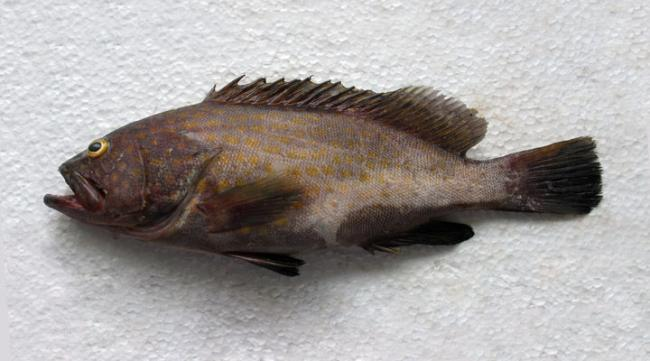fish: (44, 74, 603, 276)
